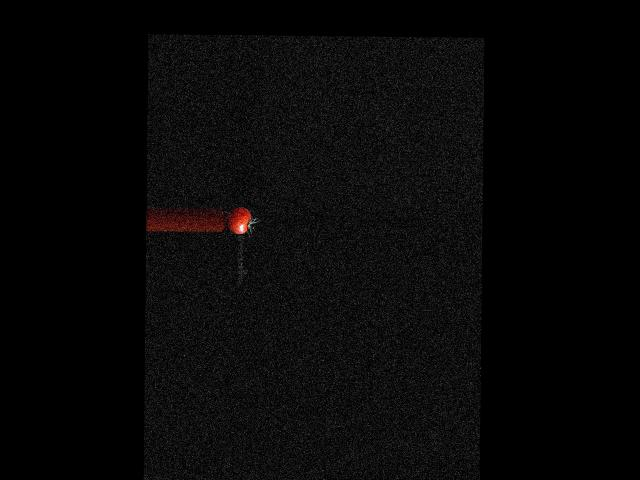tomato: (227, 207, 251, 234)
